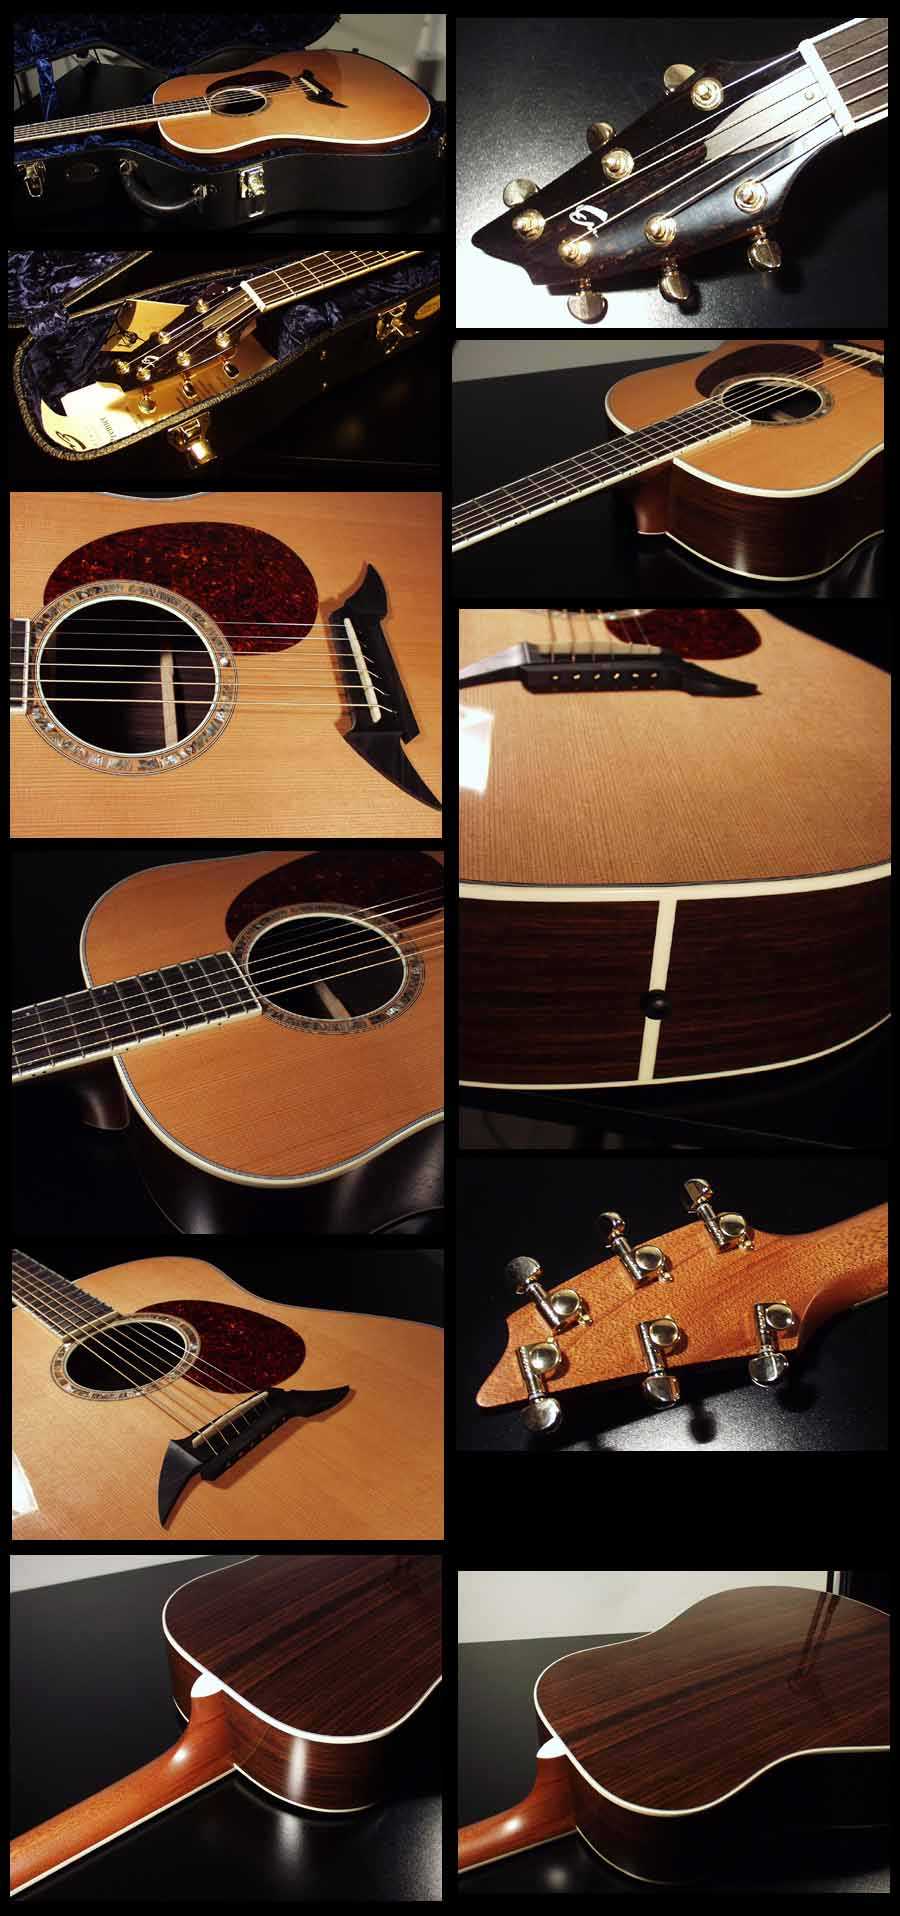guitar: (440, 604, 891, 1103), (1, 849, 447, 1191), (5, 1562, 447, 1901), (1, 494, 437, 837), (453, 1581, 898, 1894), (1, 1248, 447, 1543), (482, 22, 900, 310), (473, 1158, 898, 1436), (440, 338, 891, 576), (101, 233, 443, 391), (1, 39, 434, 159)
